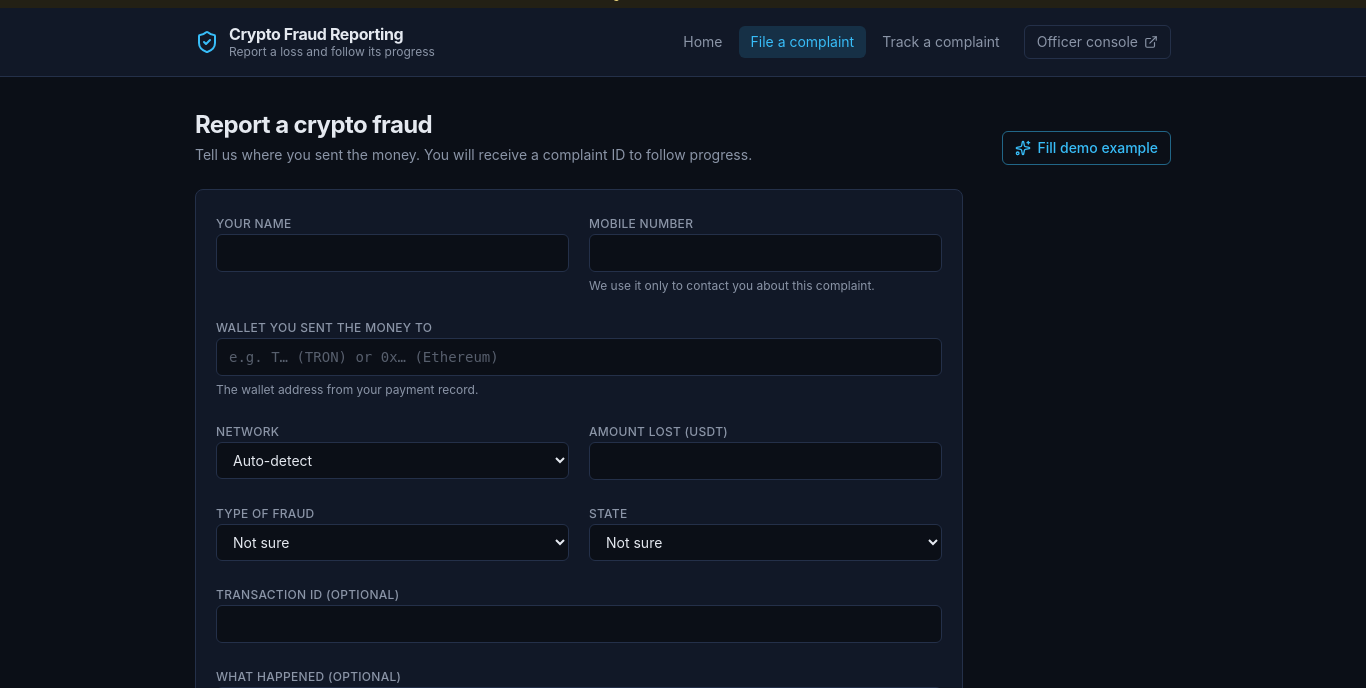
Scenario: the optional lure-channel questions when filing › are optional: a complaint without them sends nothing extra
In the field labelled "Your name": (392, 253) [216,234,569,272], type "Asha"
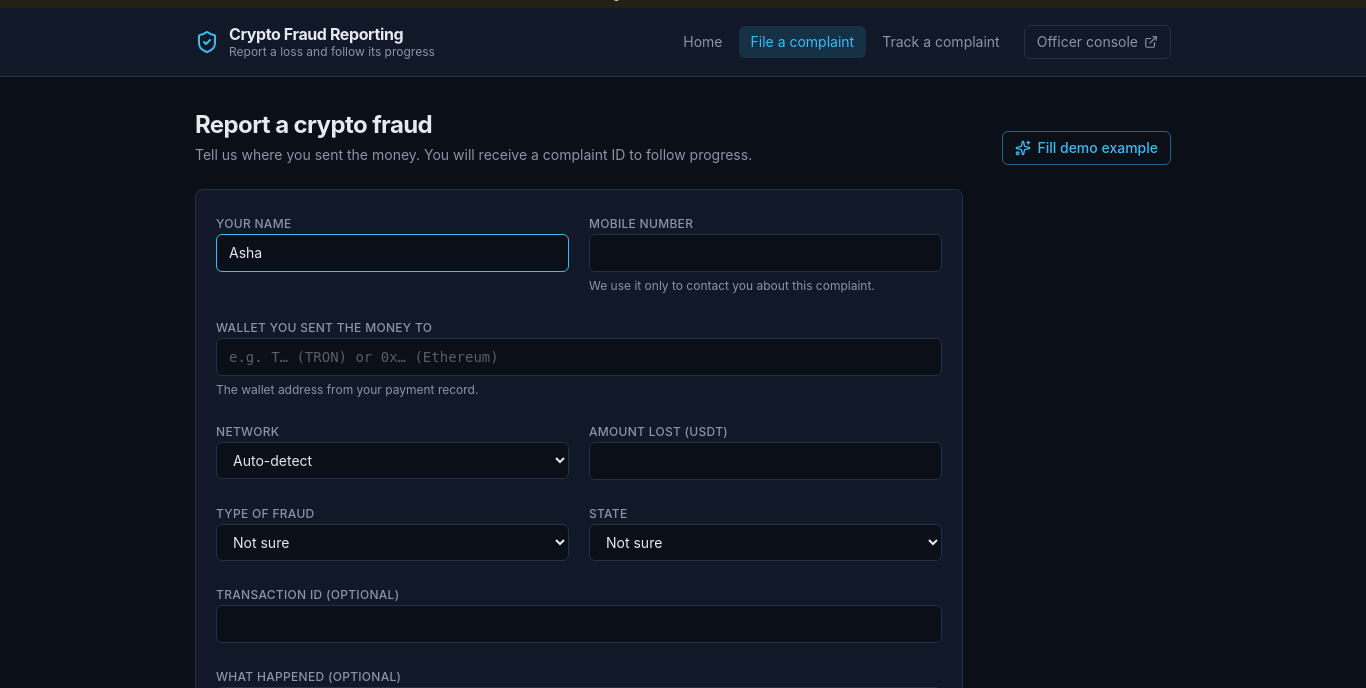
In the field labelled "Mobile number": (766, 253) [589,234,942,272], type "9876543210"
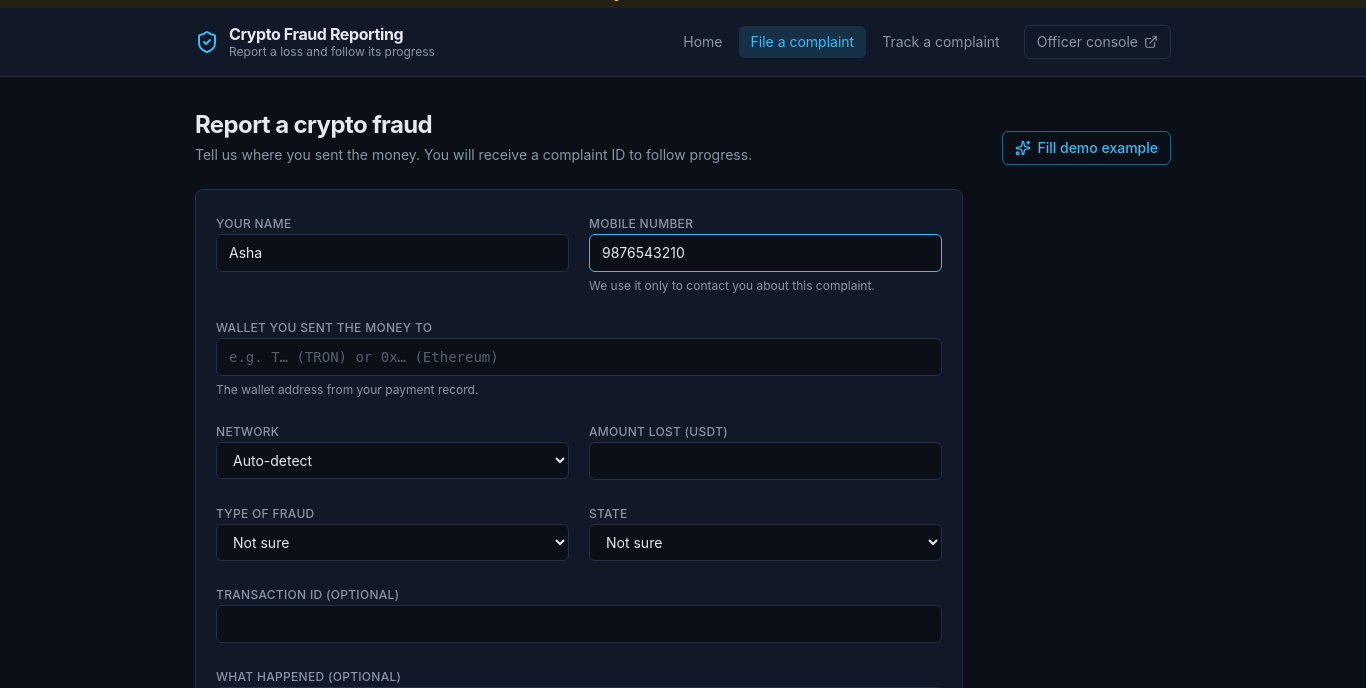
In the field labelled "Wallet you sent": (579, 357) [216,338,942,376], type "TUNoHG2D7iRUtY6ra1ZubJtKe2vHqkM5jo"
(page scrolled)
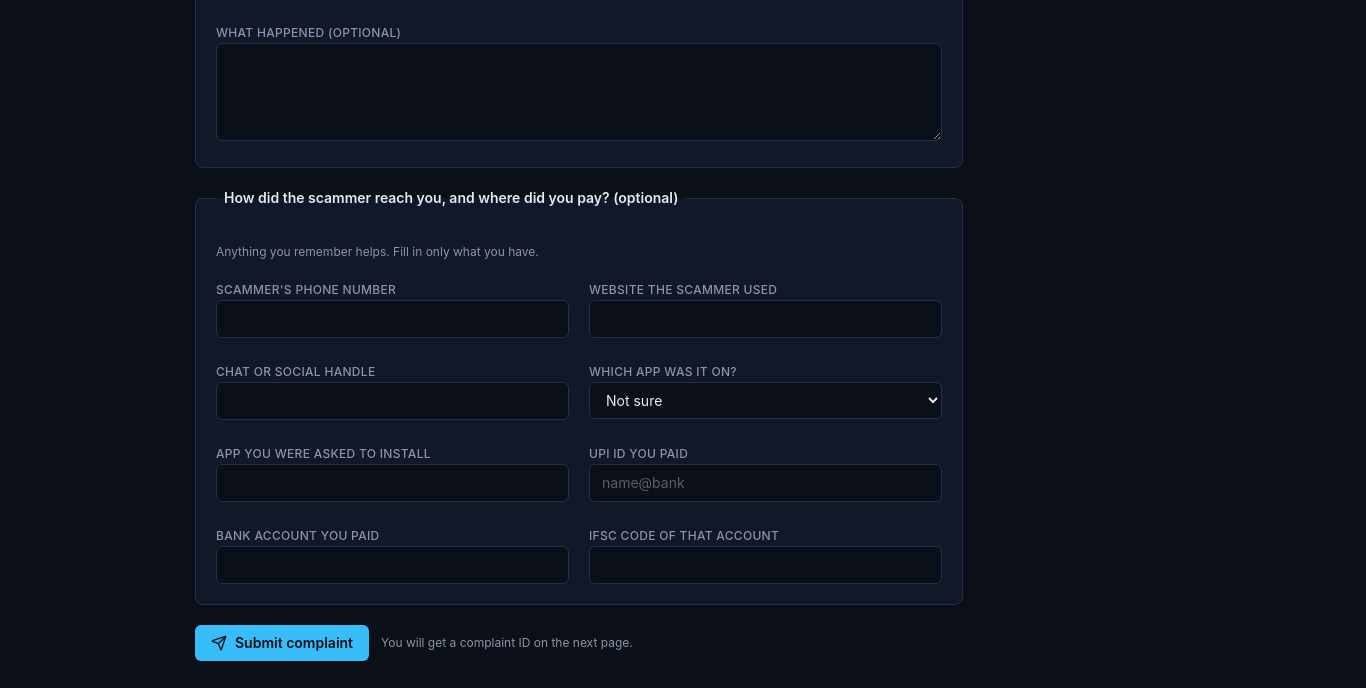
Click the button "Submit complaint": click(282, 643) [195,625,369,661]
(page scrolled)
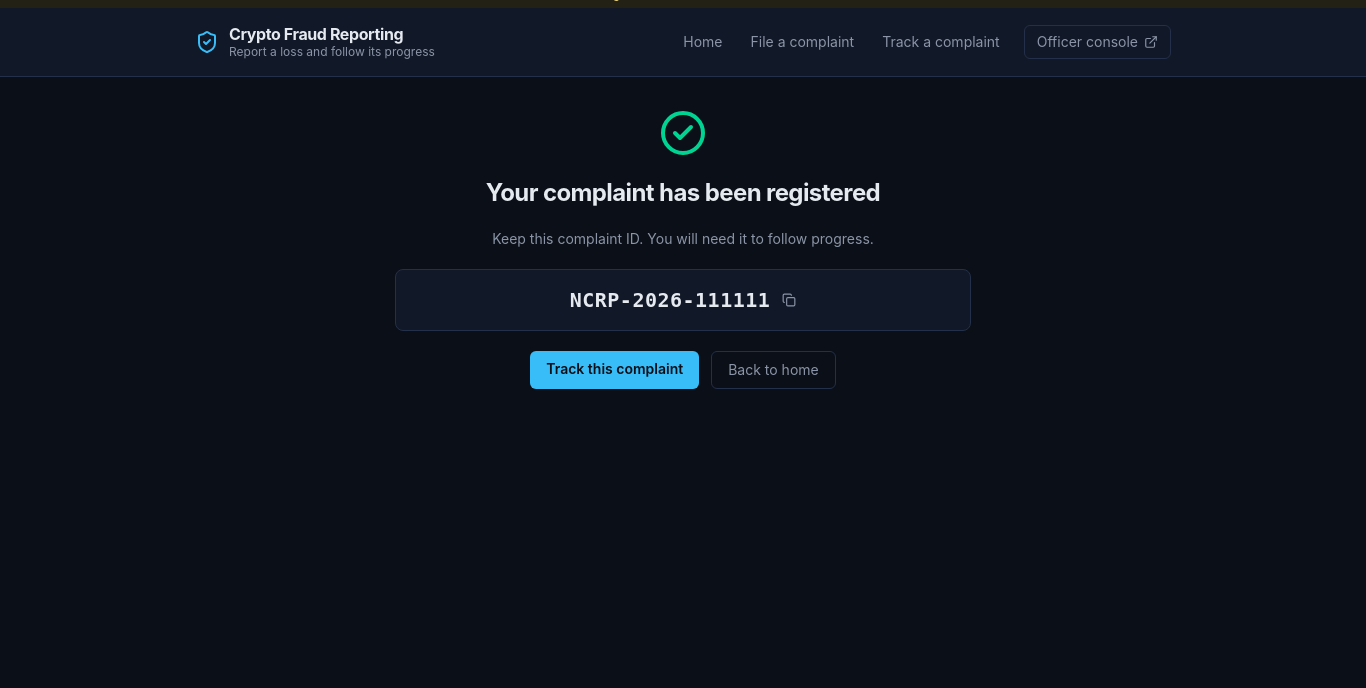
Now the text "NCRP-2026-111111" is shown, box [570,286,770,314]
